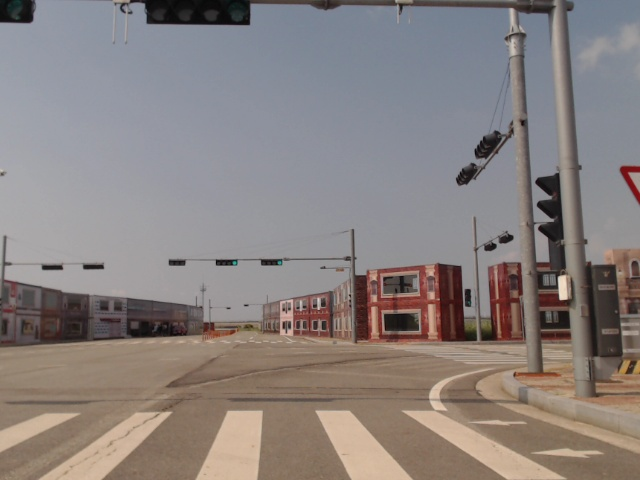straight_green_4: (145, 1, 251, 27), (260, 260, 284, 267), (217, 259, 238, 267)
